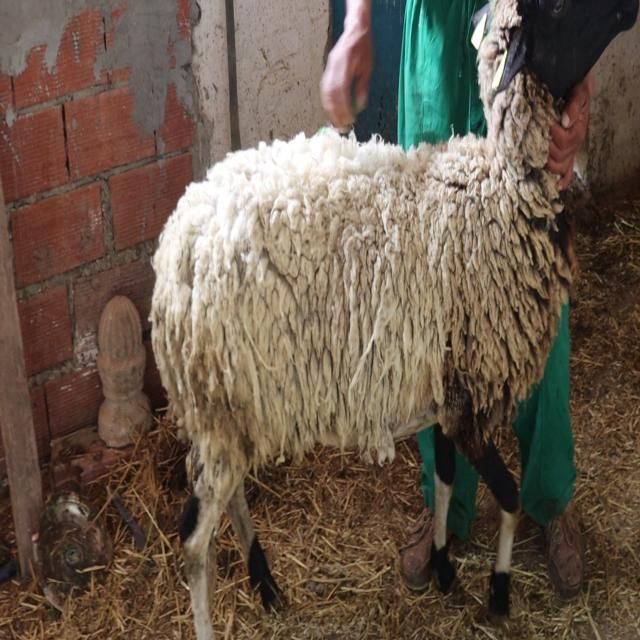Score_2: (150, 0, 638, 639)
